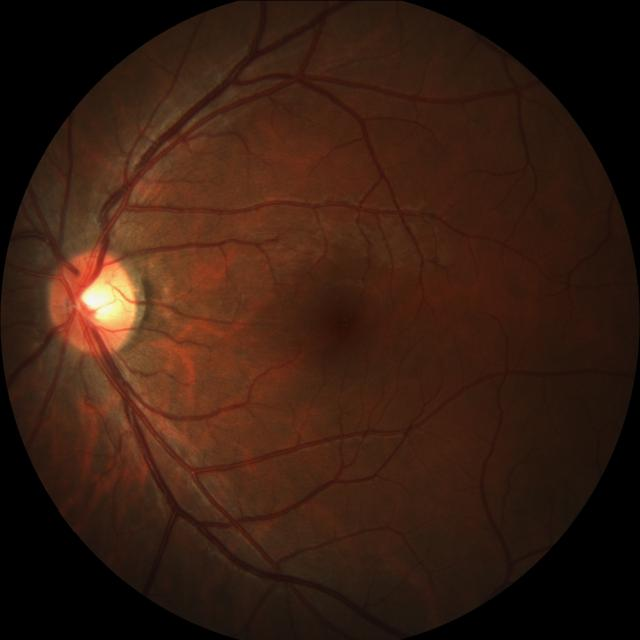OC: (78, 279, 124, 325)
OD: (50, 250, 140, 355)
